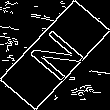N_SE: (21, 23, 89, 87)
